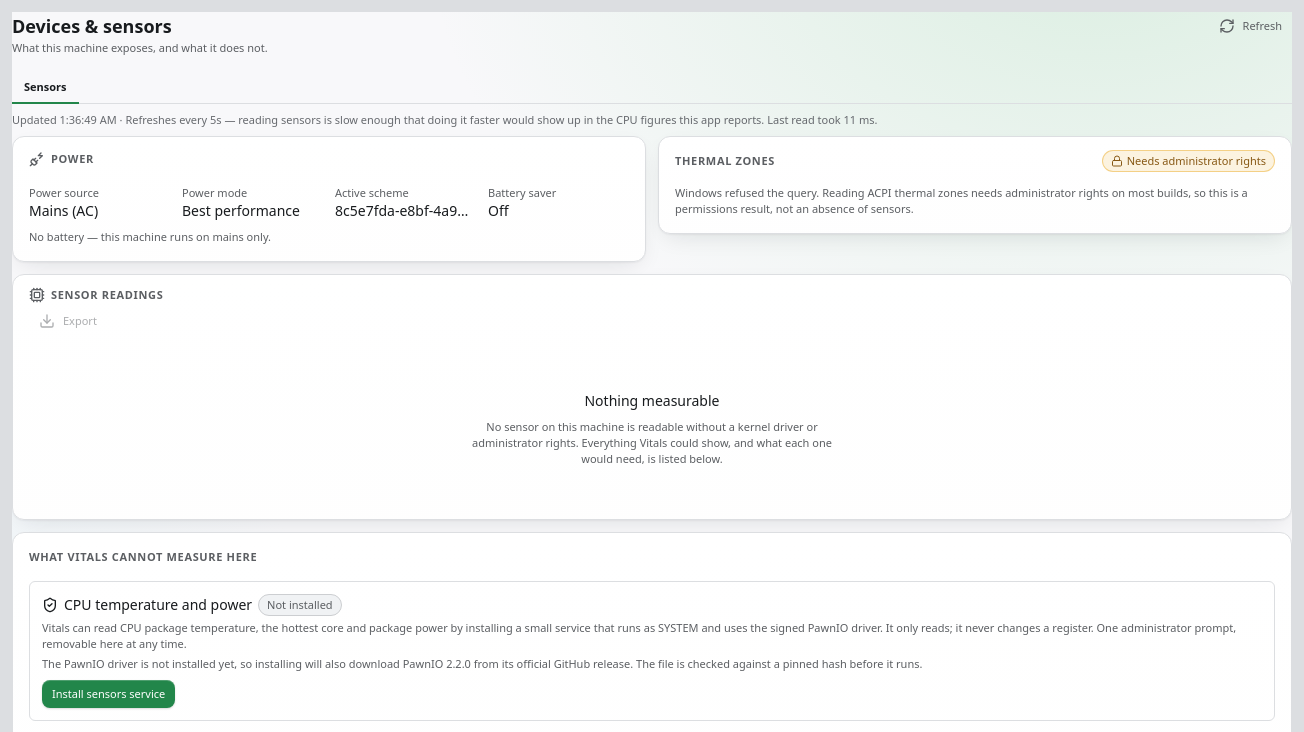
Test: the CPU sensors service › installs, then re-reads both the service and the sensors
Check: the heading "CPU temperature and power" is shown, box x1=64 y1=595 x2=252 y2=615
Click the button "Install sensors service": (109, 694) x1=42 y1=680 x2=175 y2=708
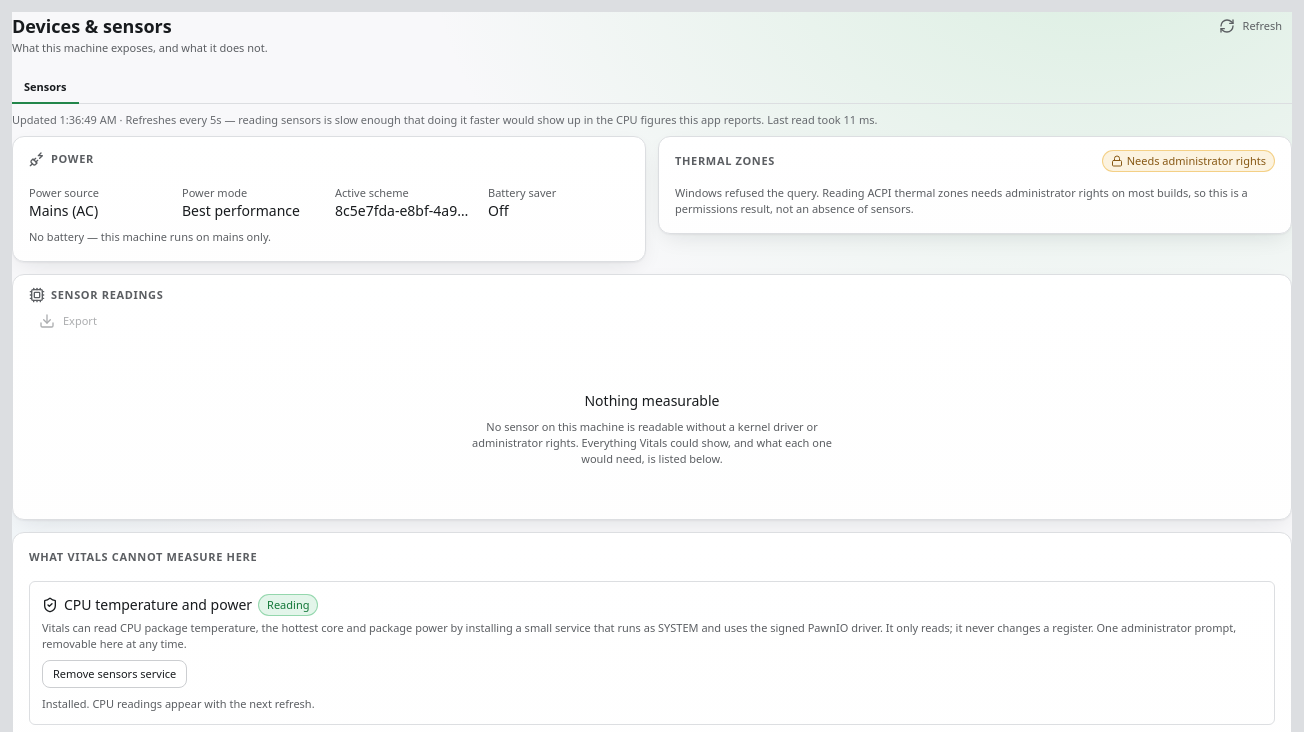
Check: the text "Installed. CPU readings appear with the next refresh." is shown, box x1=42 y1=696 x2=315 y2=711
Check: the button "Remove sensors service" is shown, box x1=42 y1=660 x2=187 y2=688
